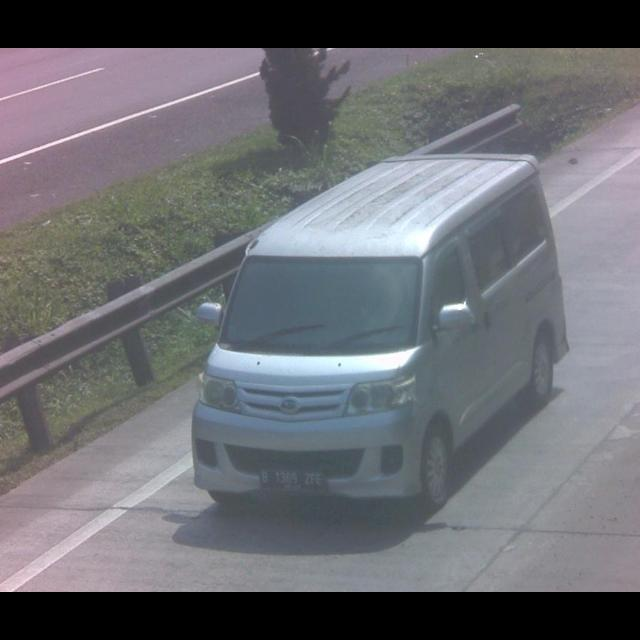plate: (253, 468, 331, 498)
